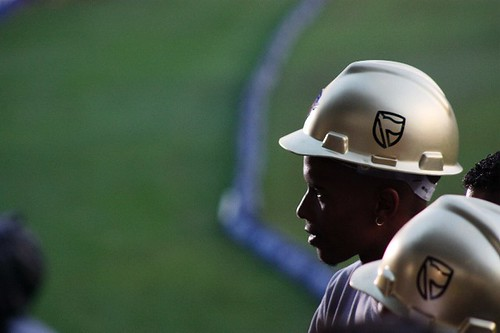person hardhat: (272, 57, 450, 332), (348, 189, 500, 333)
